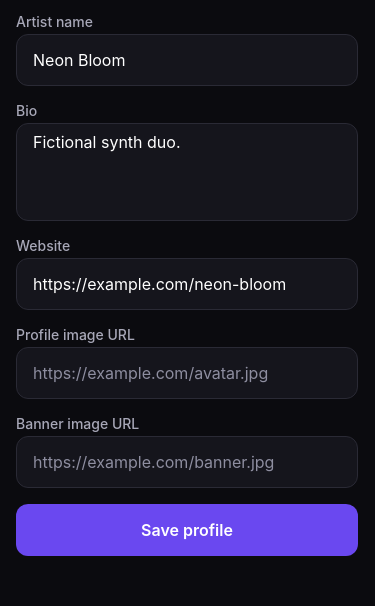
Scenario: ArtistProfileScreen › saves name and profile changes
The image size is (375, 606).
Expected: the button with test id "profile-save" is shown, [16,504,358,556]
Replace the text in the field with test id "profile-name" with "Neon Bloomers" at (187, 60), box [33,42,341,78]
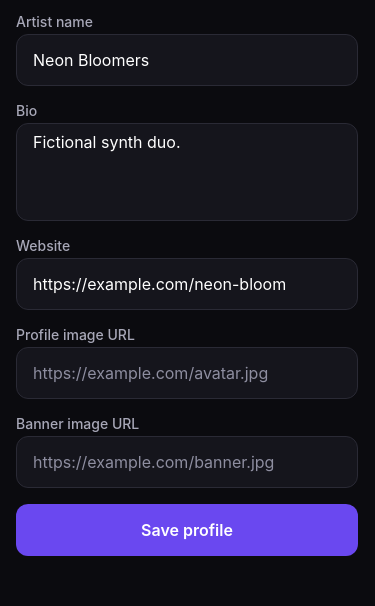
Replace the text in the text box with test id "profile-bio" with "Updated bio." at (187, 172), box [33,124,341,220]
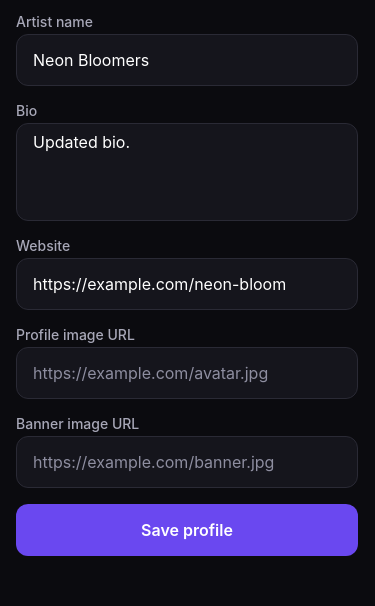
Click the button with test id "profile-save" at (187, 530), box [16,504,358,556]
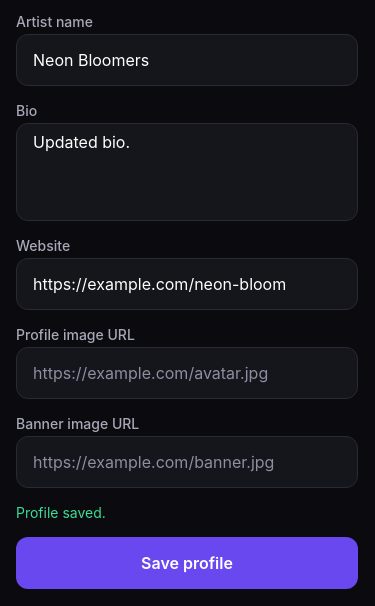
Now the text "Profile saved." is shown, box [16,504,106,521]
